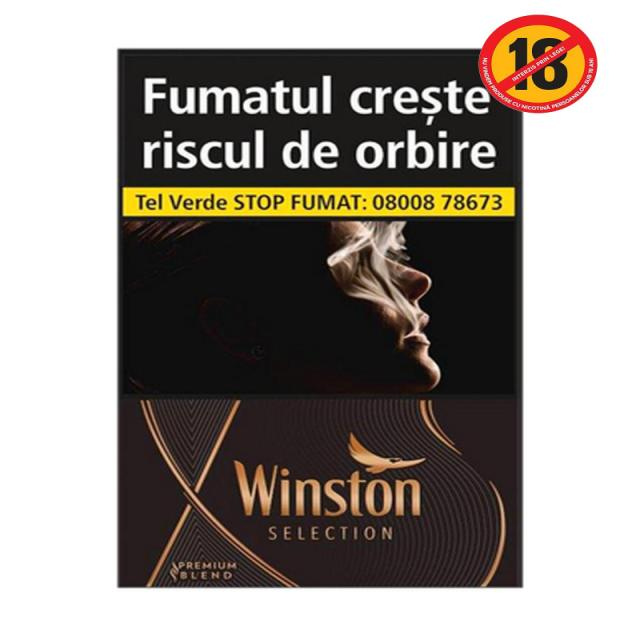winston: (112, 44, 528, 593)
